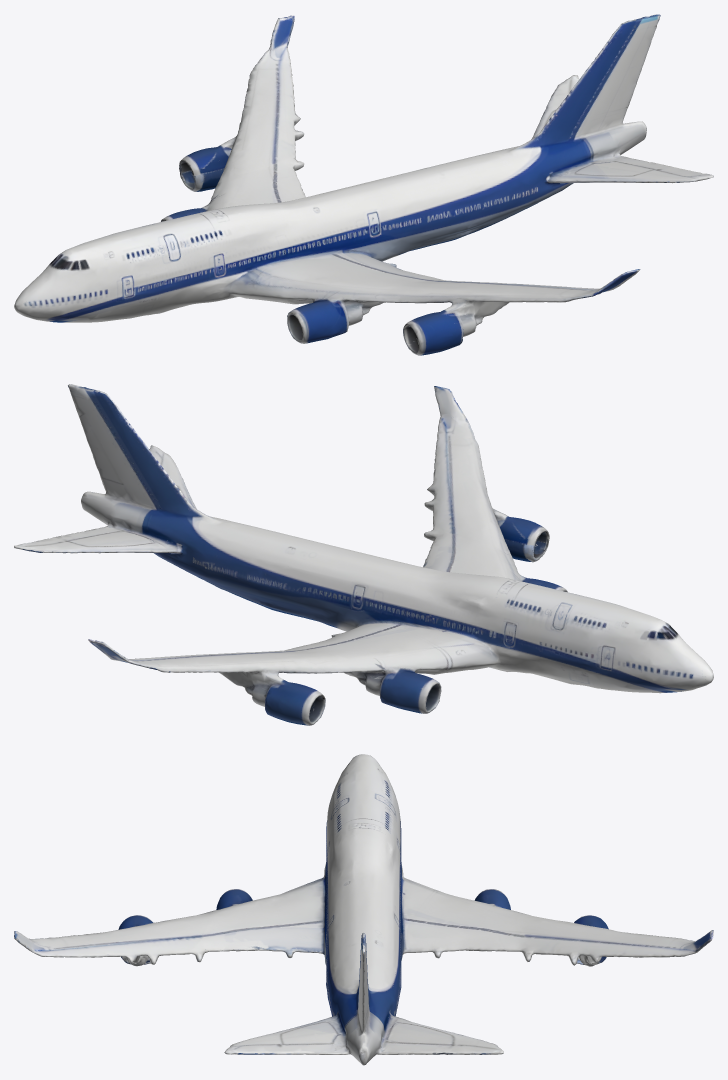
Rendered from boeing_747.glb.
The picture shows the model from 3 angles, top to bottom: view 1: azimuth 30°, elevation 25°; view 2: azimuth 150°, elevation 25°; view 3: azimuth 270°, elevation 25°; orthographic projection.
Size of the model in its own units: 1.91 by 0.5091 by 1.78.
1 material, 1 textured.
